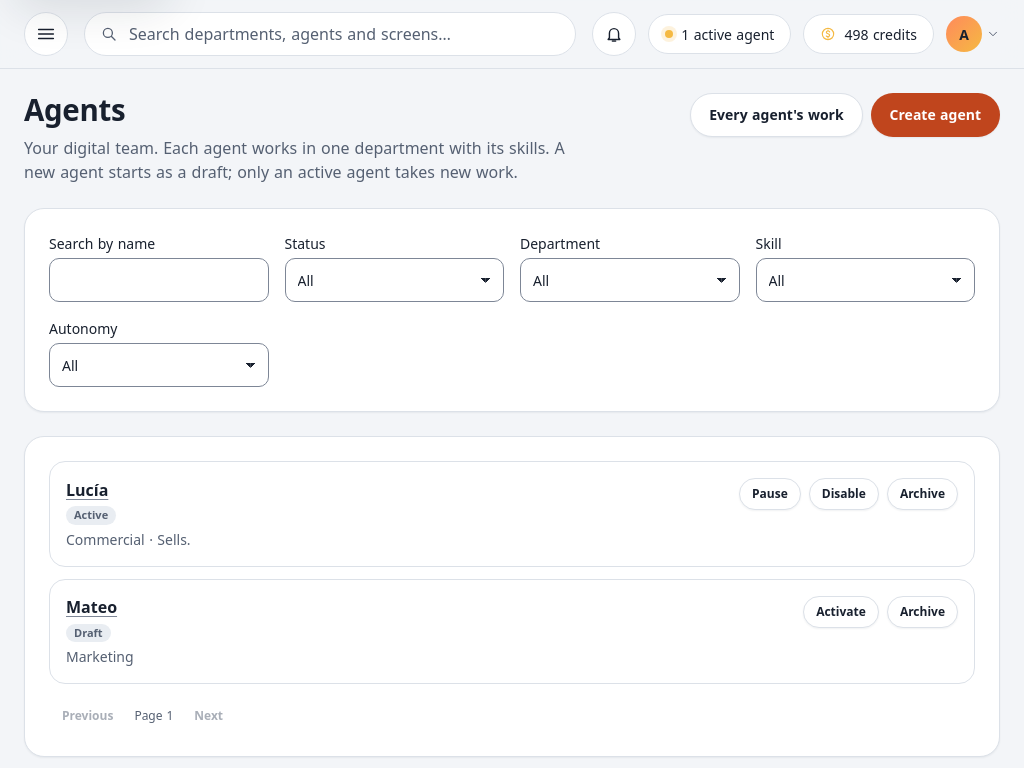
Test: Agents (ADR-0025, ADR-0062) › disabling cannot be confirmed without a reason (AE-4.1)
Click the button "Disable": click(844, 494) [809, 478, 879, 510]
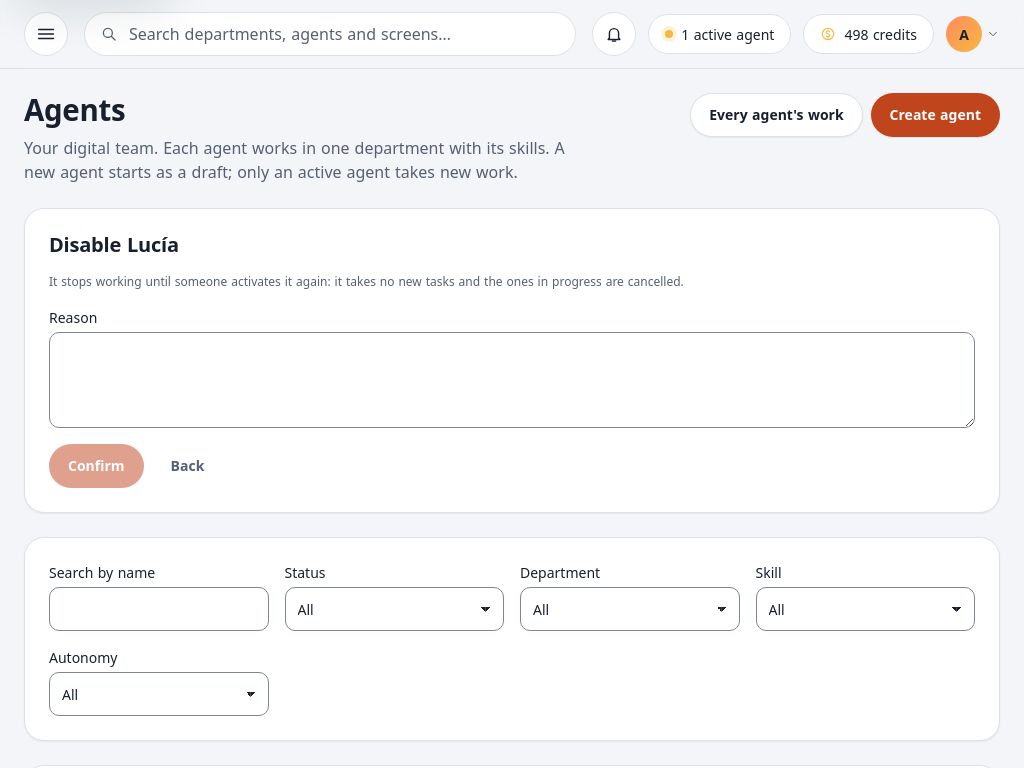
Result: the button "Confirm" is disabled at [49, 444, 144, 488]
In the text box labelled "Reason": (512, 380) [49, 332, 975, 428], type "Respuestas fuera de tono"
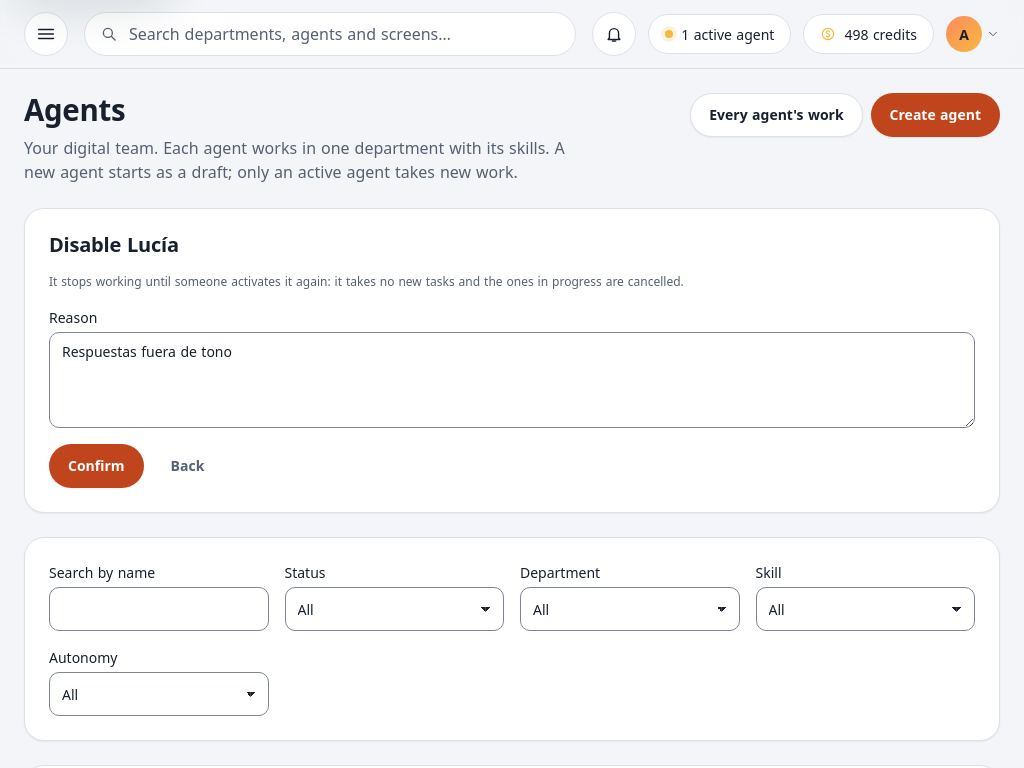
Click the button "Confirm": click(96, 466) [49, 444, 144, 488]
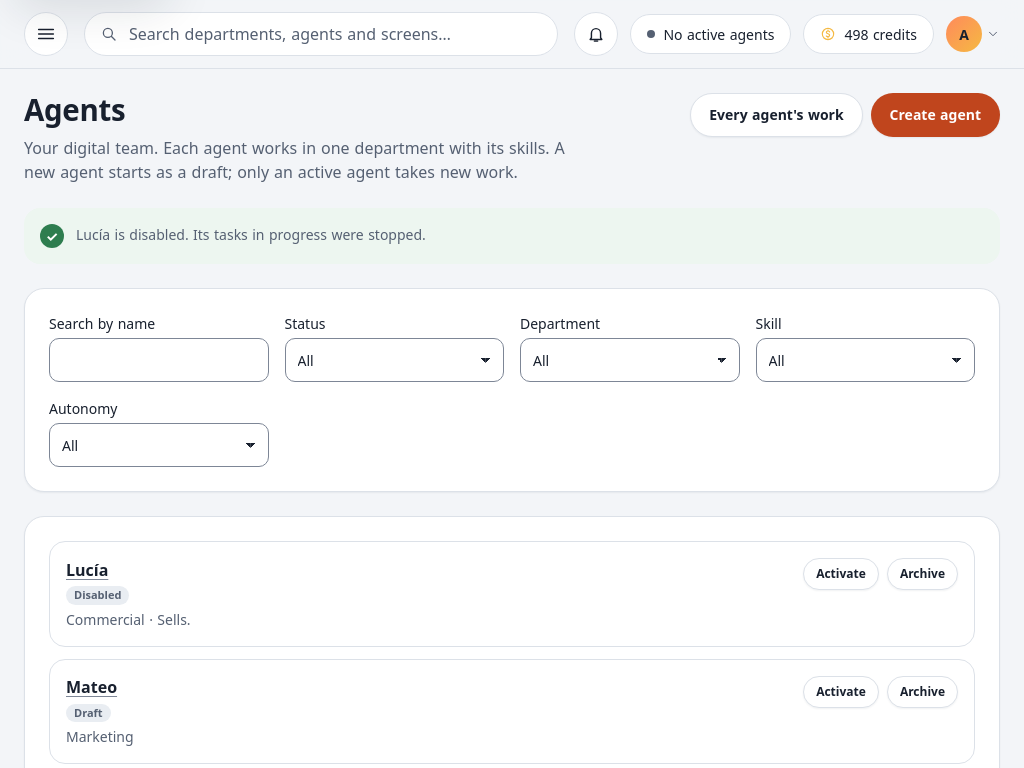
Result: the text "Lucía is disabled. Its tasks in progress were stopped." is shown at [76, 224, 426, 245]
